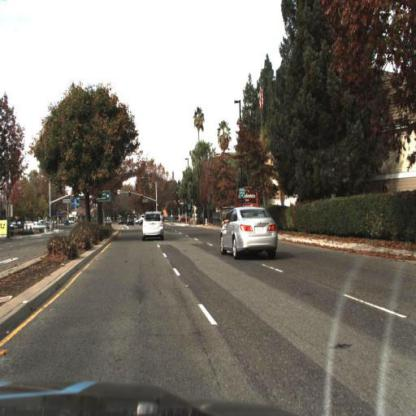car: (221, 204, 282, 269), (140, 207, 169, 244)
